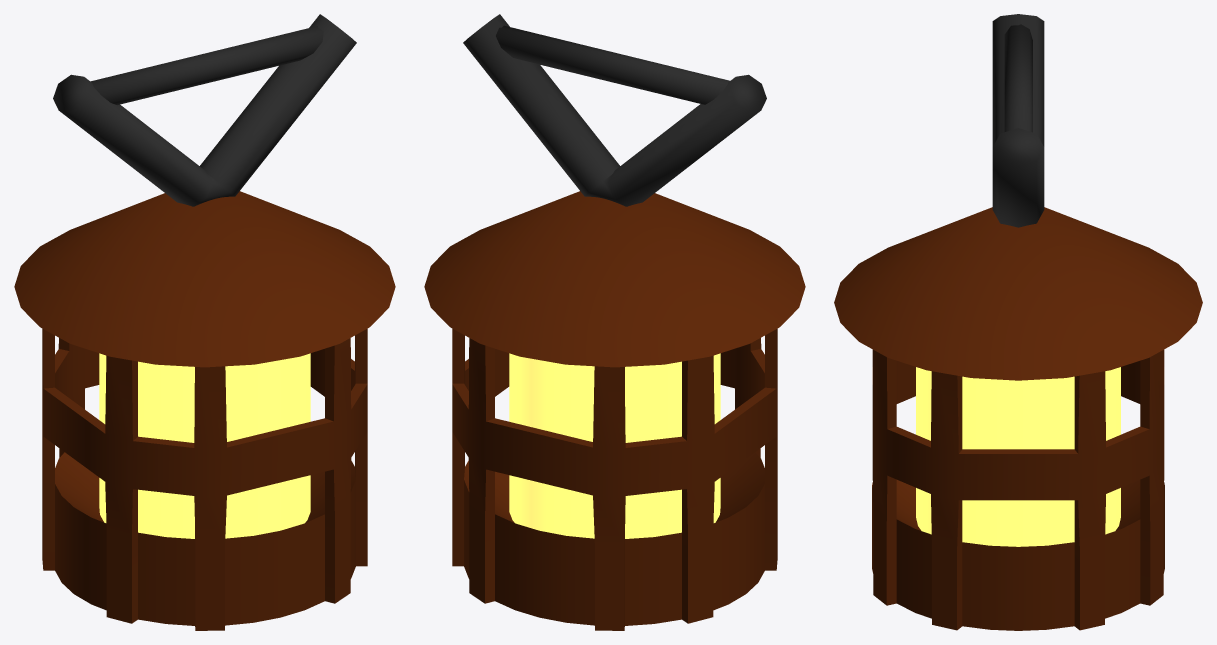
File: Lantern.fbx
3 views of the same model, side by side, from view 1: azimuth 30°, elevation 25°; view 2: azimuth 150°, elevation 25°; view 3: azimuth 270°, elevation 25° (orthographic). The views are drawn at different scales.
Visible parts, largest first — view 1: Cylinder, Cylinder.002, Cylinder.001; view 2: Cylinder, Cylinder.002, Cylinder.001; view 3: Cylinder, Cylinder.001, Cylinder.002.
Part boxes in pixels (<box>): Cylinder: <box>14,191,395,630</box>; Cylinder.002: <box>53,14,356,206</box>; Cylinder.001: <box>99,353,310,538</box>; Cylinder: <box>424,191,805,630</box>; Cylinder.002: <box>463,14,766,206</box>; Cylinder.001: <box>509,353,720,538</box>; Cylinder: <box>834,207,1202,630</box>; Cylinder.001: <box>916,367,1120,546</box>; Cylinder.002: <box>992,14,1044,227</box>.
Size of the model in its own units: 0.252 by 0.3755 by 0.252.
